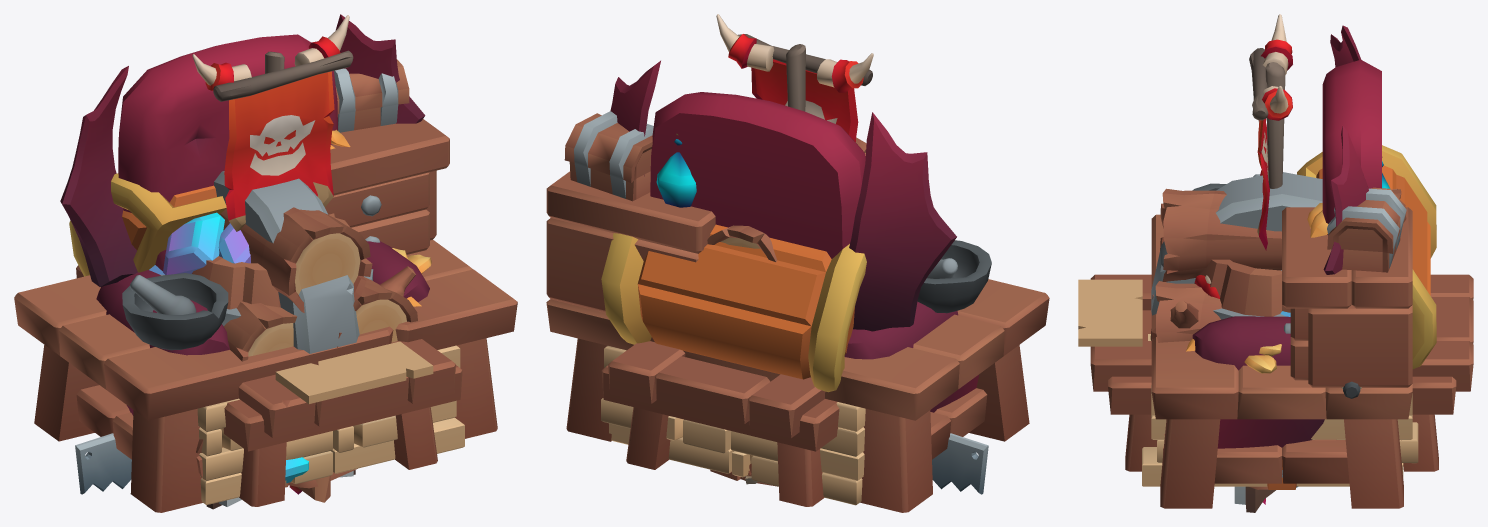
Rendered from kit_items.glb.
3 renders of one model, left to right at view 1: azimuth 30°, elevation 25°; view 2: azimuth 150°, elevation 25°; view 3: azimuth 270°, elevation 25°, orthographic. The views are drawn at different scales.
Parts seen in each view (by area): view 1: Potionstation_decorated, Vampire_Throne, grindstone, Orc_Banner, Wood_Log_Stack, Wood_Planks_Stack_Medium, Gems_Chest, grindstone_wheel, Food_Barrel_Empty, saw; view 2: Potionstation_decorated, Vampire_Throne, Gems_Chest, grindstone, Wood_Planks_Stack_Medium, Orc_Banner, saw, Wood_Log_Stack; view 3: Potionstation_decorated, grindstone, Vampire_Throne, Wood_Log_Stack, Gems_Chest, Orc_Banner, grindstone_wheel, Food_Barrel_Empty, Wood_Planks_Stack_Medium, journal_open.
Part boxes in pixels (x1,y1,x2,y2): Potionstation_decorated: (14,59,517,512); Vampire_Throne: (60,14,429,415); grindstone: (76,265,462,506); Orc_Banner: (192,15,357,488); Wood_Log_Stack: (196,207,417,479); Wood_Planks_Stack_Medium: (197,345,464,505); Gems_Chest: (69,173,308,483); grindstone_wheel: (214,171,359,353); Food_Barrel_Empty: (159,213,373,326); saw: (75,433,131,494); Potionstation_decorated: (546,111,1049,512); Vampire_Throne: (610,60,978,412); Gems_Chest: (601,224,866,392); grindstone: (601,341,839,506); Wood_Planks_Stack_Medium: (601,346,865,505); Orc_Banner: (710,14,873,486); saw: (932,433,988,494); Wood_Log_Stack: (707,137,866,474); Potionstation_decorated: (1151,156,1412,508); grindstone: (1078,274,1473,471); Vampire_Throne: (1192,25,1381,448); Wood_Log_Stack: (1150,188,1401,455); Gems_Chest: (1280,145,1436,369); Orc_Banner: (1249,14,1292,489); grindstone_wheel: (1151,172,1361,398); Food_Barrel_Empty: (1194,259,1290,319); Wood_Planks_Stack_Medium: (1142,334,1418,489); journal_open: (1234,486,1275,512).
Size of the model in its own units: 2.46 by 2.83 by 2.27.
Materials: 10 (9 with a texture image).
